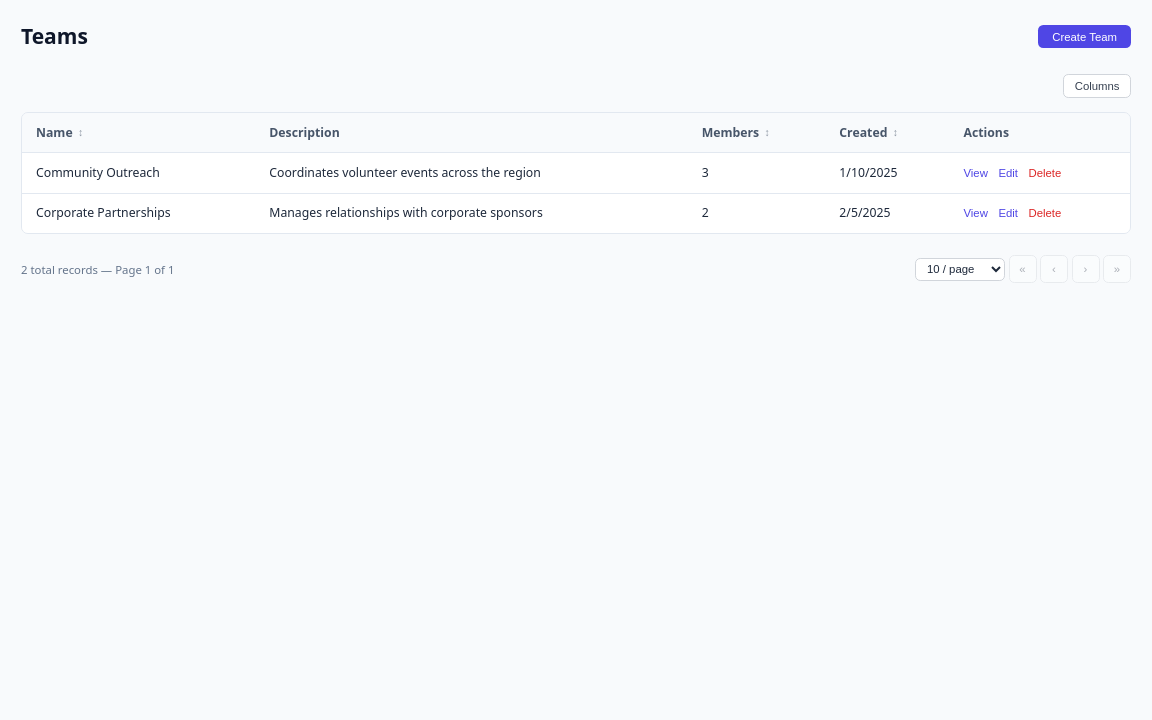
Test: TeamListContent › disables submit until the name is at least 2 characters
Expected: the text "Community Outreach" is shown, [22, 153, 255, 193]
Click the button "Create Team".
click(1085, 37)  # box [1038, 25, 1131, 48]
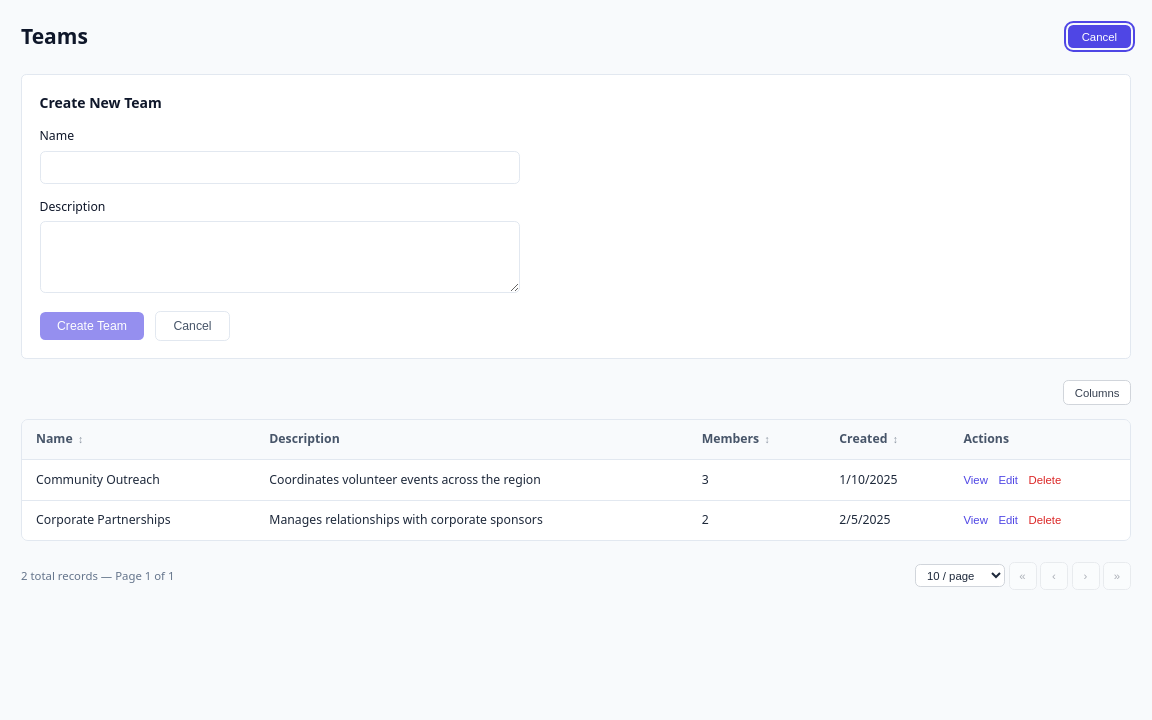
Type "A" into the field labelled "Name".
click(280, 167); type("A")  # box [40, 151, 520, 184]
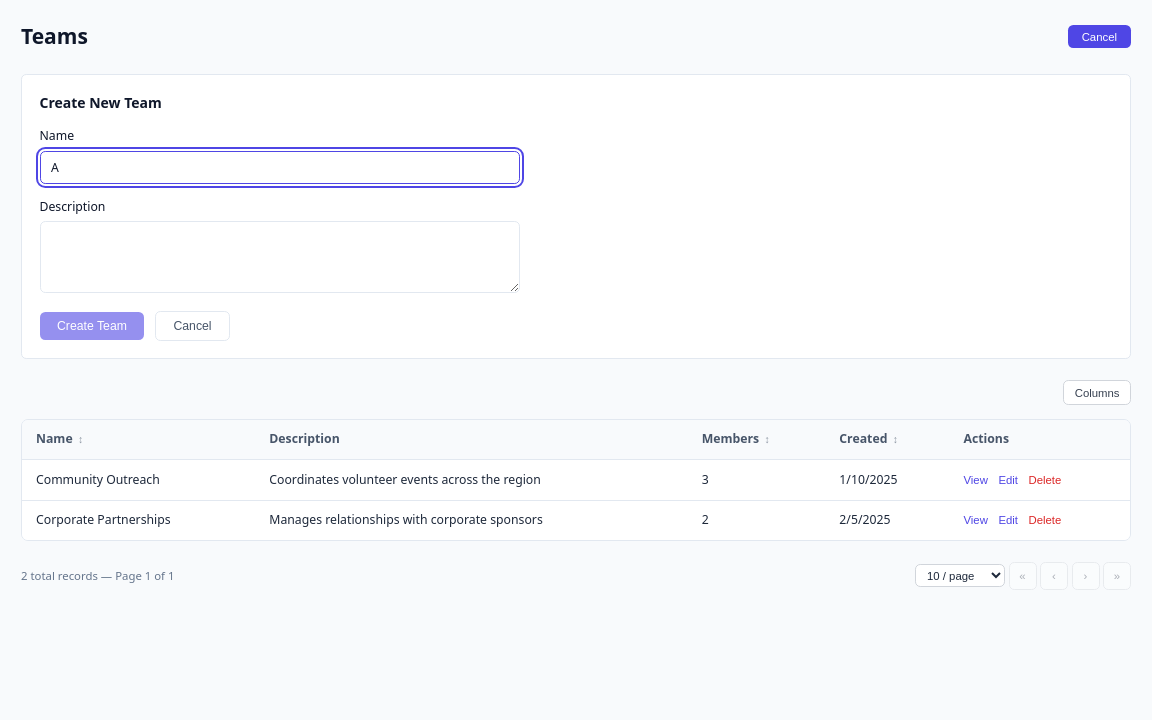
Expected: the button "Create Team" is disabled, [40, 312, 144, 340]
Type "B" into the field labelled "Name".
click(280, 167); type("B")  # box [40, 151, 520, 184]
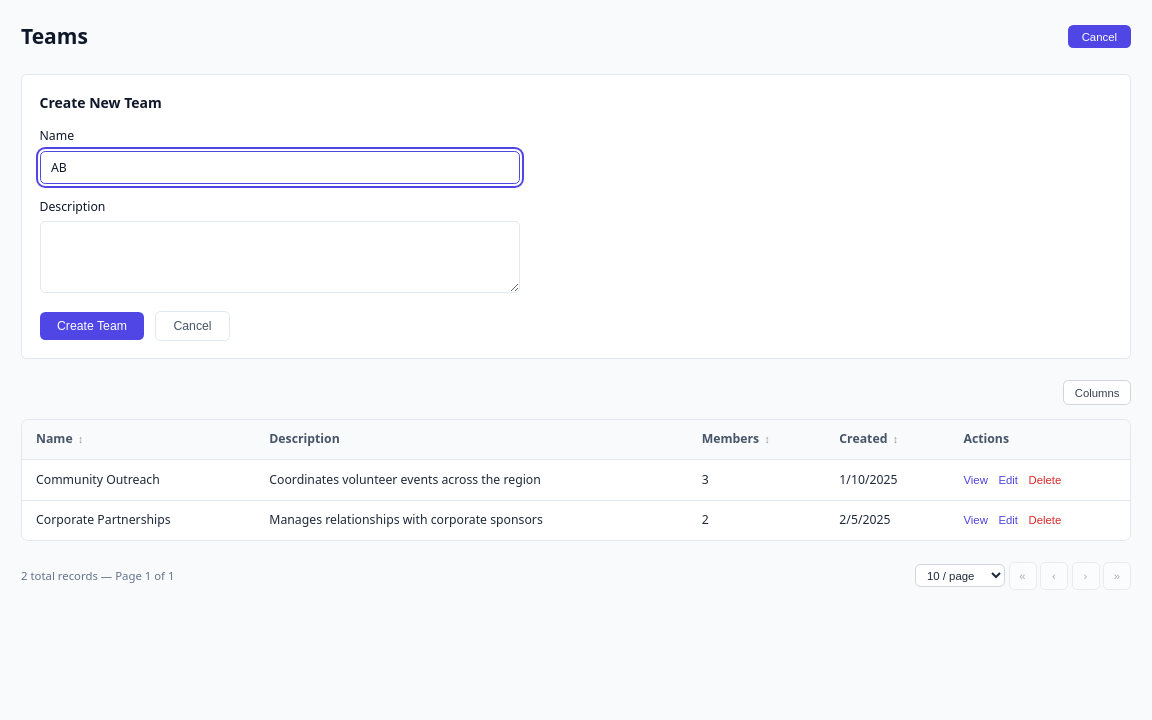
Now the button "Create Team" is enabled, box [40, 312, 144, 340]
